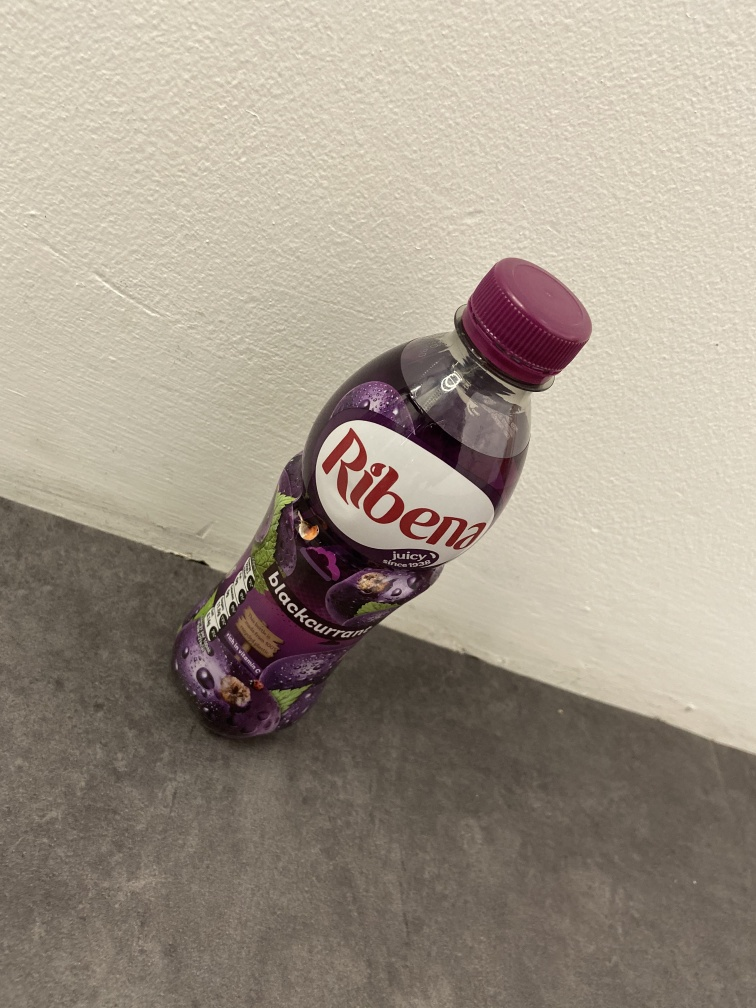bottle_purple: (171, 256, 598, 753)
